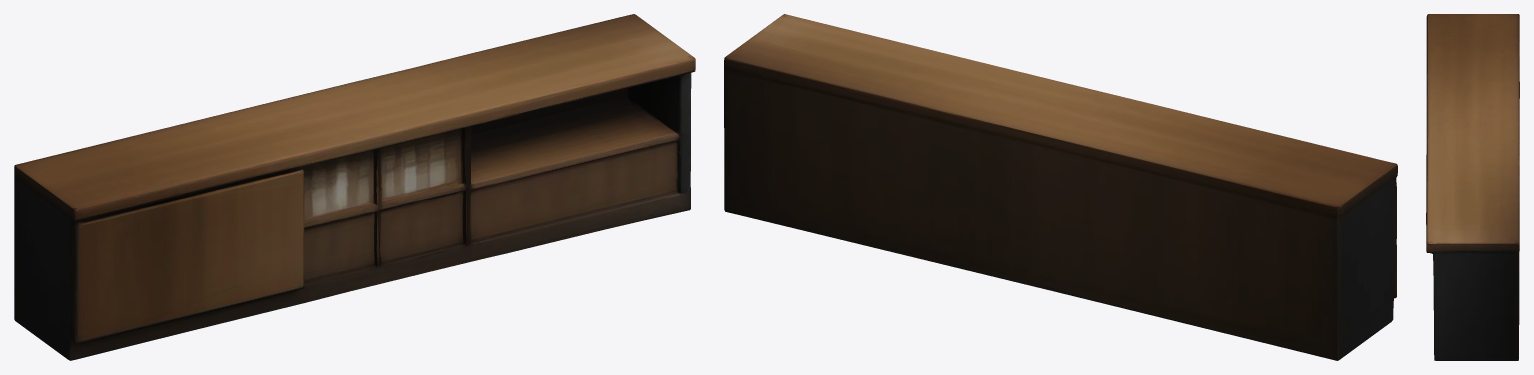
The model's file is controller_game_white.glb.
The picture shows the model from 3 angles, left to right: view 1: azimuth 30°, elevation 25°; view 2: azimuth 150°, elevation 25°; view 3: azimuth 270°, elevation 25°; orthographic projection. The views are drawn at different scales.
Visible parts, largest first — view 1: geometry_0; view 2: geometry_0; view 3: geometry_0.
Boxes of the visible parts, x1,y1,x2,y2 form: geometry_0: [14, 14, 695, 360]; geometry_0: [724, 14, 1397, 360]; geometry_0: [1426, 14, 1519, 360].
Bounding box in the file's own units: 1 × 0.2402 × 0.1725.
1 material, 1 textured.
